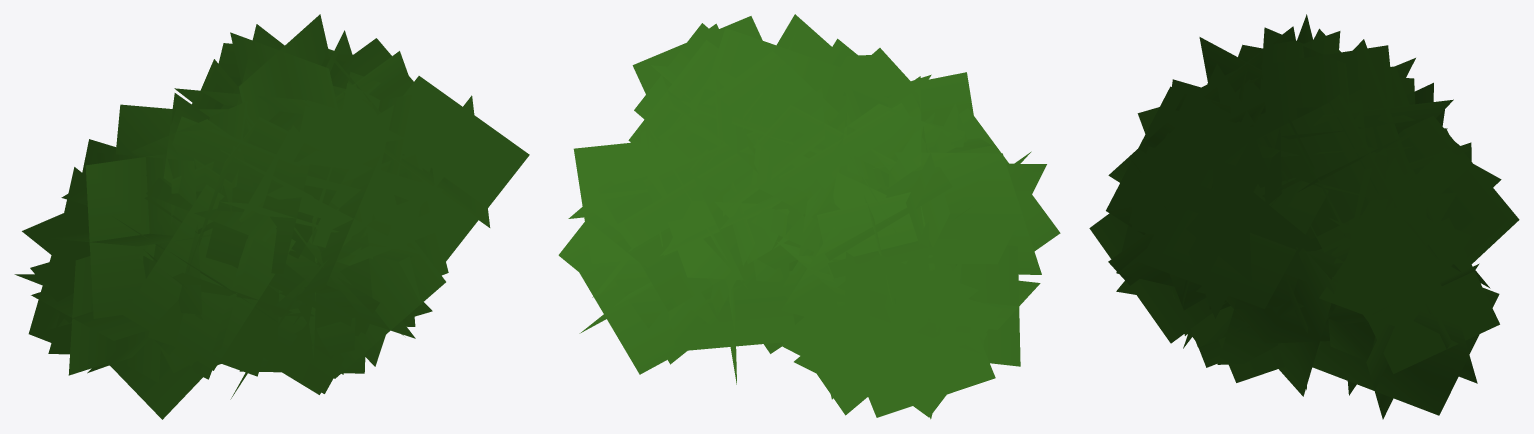
File: SM_bush_05.fbx
The picture shows the model from 3 angles, left to right: view 1: azimuth 30°, elevation 25°; view 2: azimuth 150°, elevation 25°; view 3: azimuth 270°, elevation 25°; orthographic projection. The views are drawn at different scales.
Parts seen in each view (by area): view 1: bush_05; view 2: bush_05; view 3: bush_05.
Part boxes in pixels (x1,y1,x2,y2): bush_05: [14, 14, 529, 419]; bush_05: [558, 14, 1060, 419]; bush_05: [1089, 14, 1519, 419].
Size of the model in its own units: 829 by 640 by 726.
